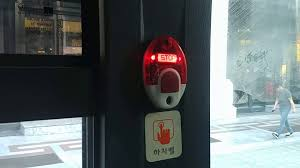bell: (139, 31, 190, 109)
